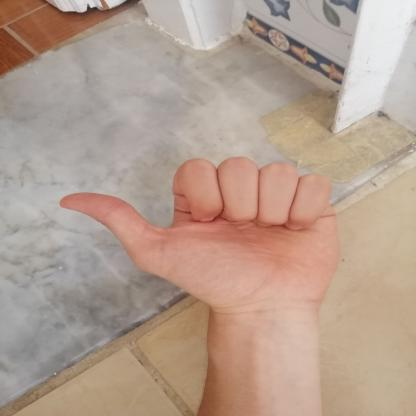DAD: (44, 146, 356, 324)
